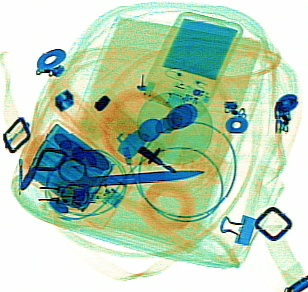powerbank: (20, 117, 138, 229)
scissors: (56, 152, 205, 209)
